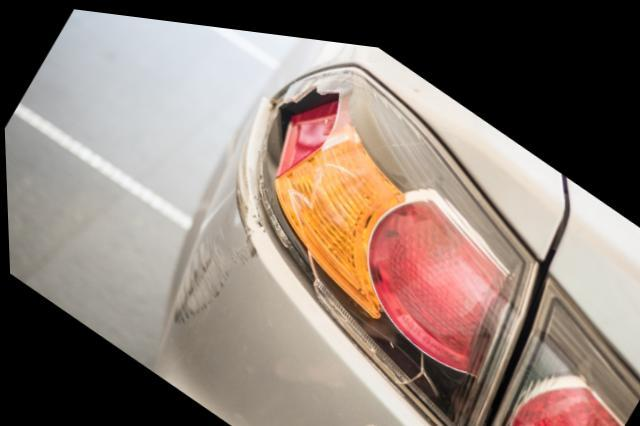lamp broken: (258, 57, 533, 426)
scratch: (170, 171, 257, 321)
